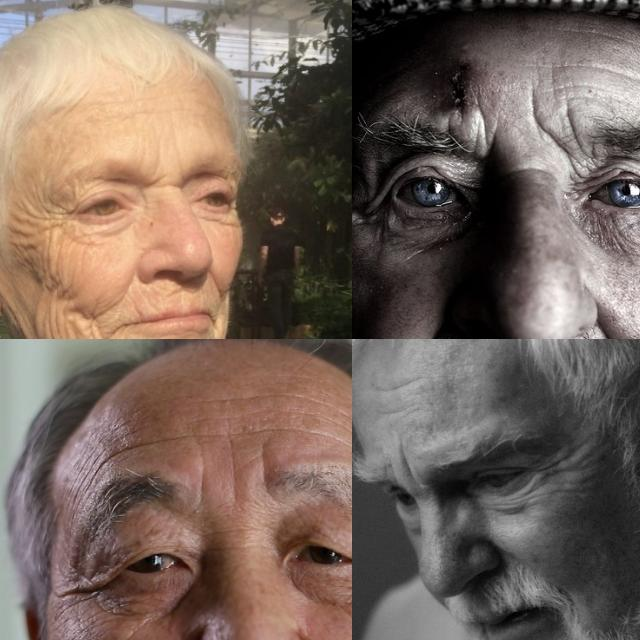crows_feet: (29, 192, 73, 248), (66, 573, 108, 601), (543, 448, 569, 484), (356, 194, 384, 226)
forehead: (587, 57, 640, 96), (104, 428, 158, 462), (184, 420, 243, 448), (260, 416, 312, 442), (378, 375, 412, 397), (374, 402, 408, 418)
frown_line: (526, 102, 590, 158), (148, 142, 185, 194), (467, 108, 499, 160), (254, 450, 280, 496), (190, 468, 216, 508), (227, 461, 245, 501), (398, 450, 418, 484)
gummy_smile: (391, 311, 448, 339), (117, 260, 143, 308), (597, 313, 640, 339), (204, 267, 226, 301)
masseter: (34, 270, 89, 339)
